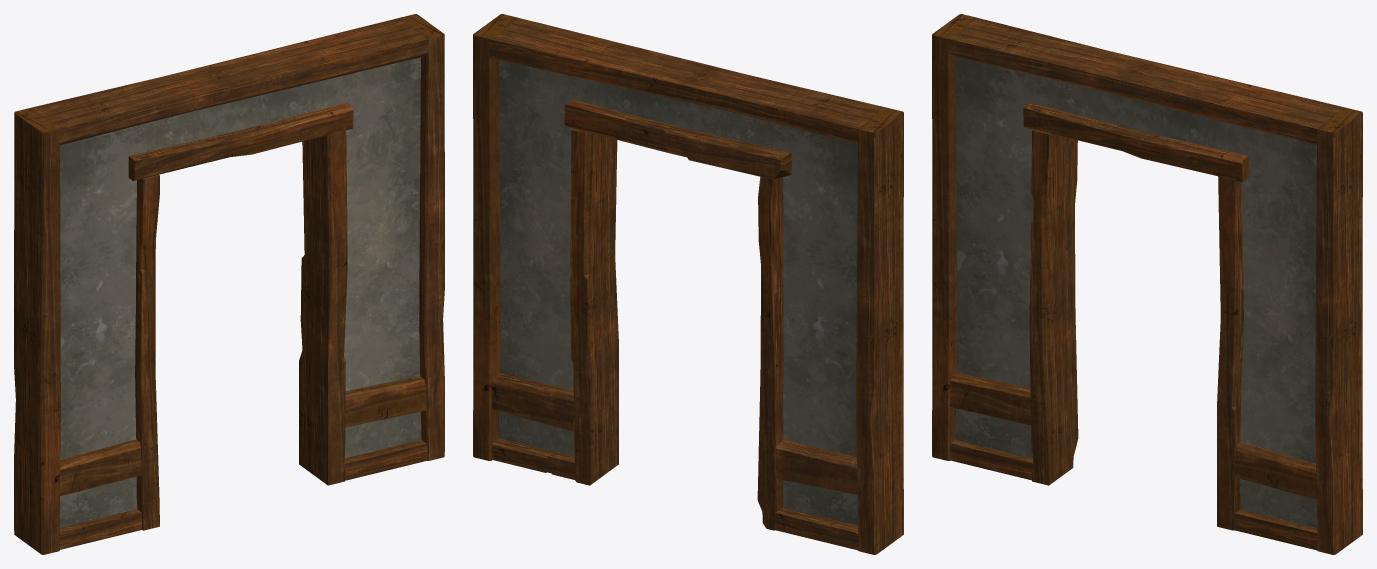
The picture shows the model from 3 angles, left to right: view 1: azimuth 30°, elevation 25°; view 2: azimuth 150°, elevation 25°; view 3: azimuth 330°, elevation 25°; orthographic projection.
Visible parts, largest first — view 1: SM_BB_T2_Wall_Large_Doorframe_LOD0; view 2: SM_BB_T2_Wall_Large_Doorframe_LOD0; view 3: SM_BB_T2_Wall_Large_Doorframe_LOD0.
Part boxes in pixels (<box>): SM_BB_T2_Wall_Large_Doorframe_LOD0: <box>14,14,444,554</box>; SM_BB_T2_Wall_Large_Doorframe_LOD0: <box>473,14,903,554</box>; SM_BB_T2_Wall_Large_Doorframe_LOD0: <box>932,14,1362,554</box>.
Size of the model in its own units: 3 by 3 by 0.3829.
Materials: 2 (2 with a texture image).
